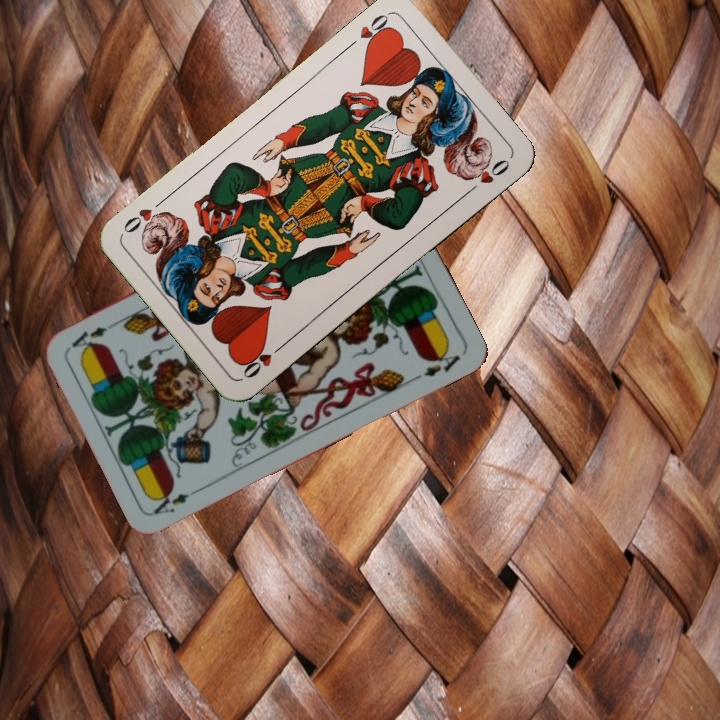EA: (150, 482, 206, 517)
HO: (343, 9, 395, 52), (237, 339, 288, 381)
